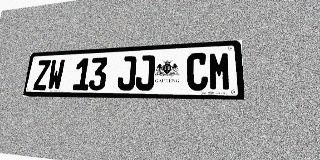1: (73, 58, 92, 90)
3: (88, 57, 108, 90)
C: (186, 52, 208, 91)
J: (135, 55, 155, 90), (117, 56, 137, 90)
M: (208, 51, 232, 91)
W: (47, 59, 65, 90)
Z: (33, 60, 51, 90)
